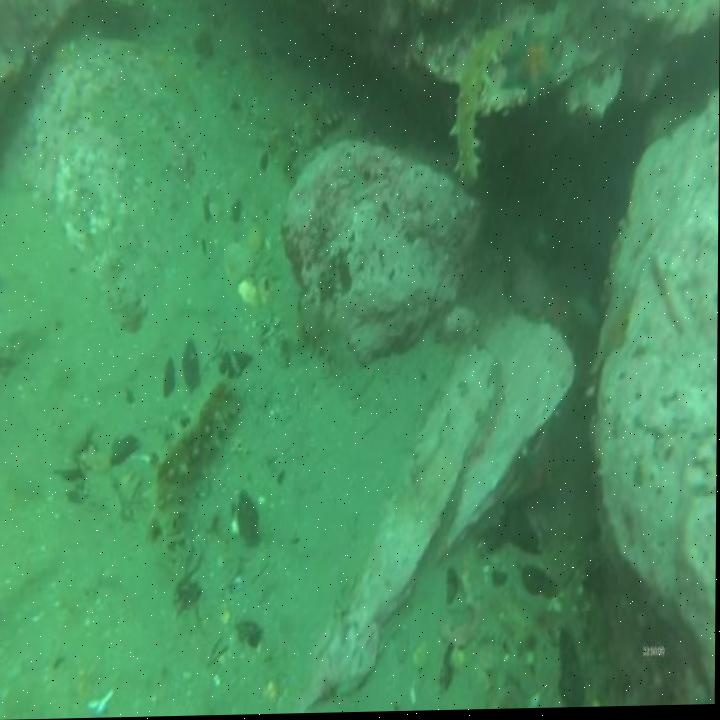holothurian: (147, 373, 242, 566), (451, 25, 509, 195), (292, 79, 351, 153)
starfish: (498, 15, 566, 114)
